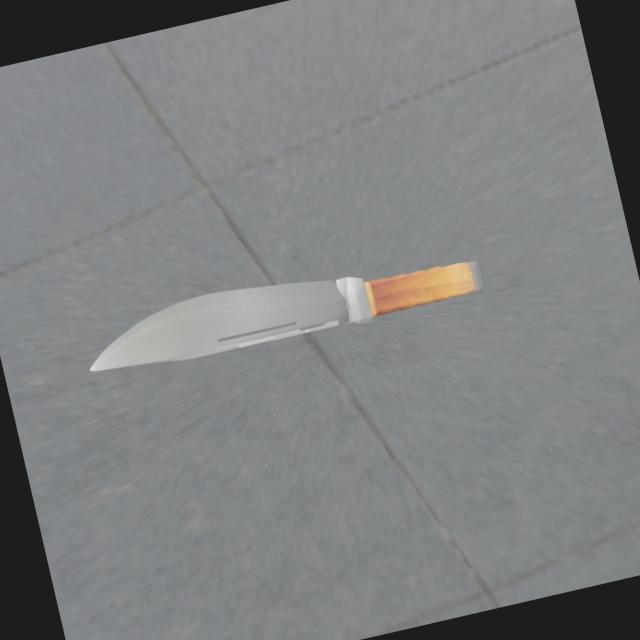knife: (340, 245, 506, 326)
